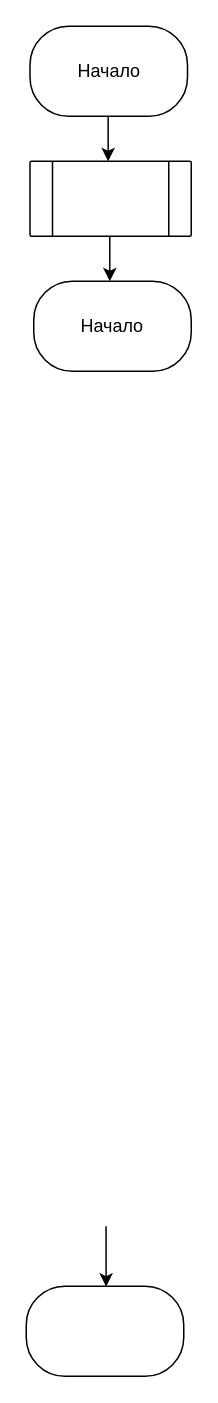
The diagram is 218 pixels wide and 1403 high, and some of its shapes have lost their labels. The shapes that lost their labels are listed below. From the top down, each one's box as (x1, y1, x2, y2) in pixels, then its label:
(28, 160, 191, 236): QuickSort Recursive (arr, 0, n - 1)
(25, 1285, 184, 1376): Конец
